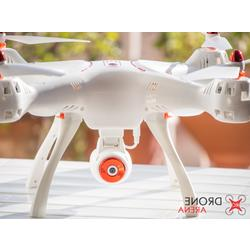drone: (1, 33, 250, 218)
